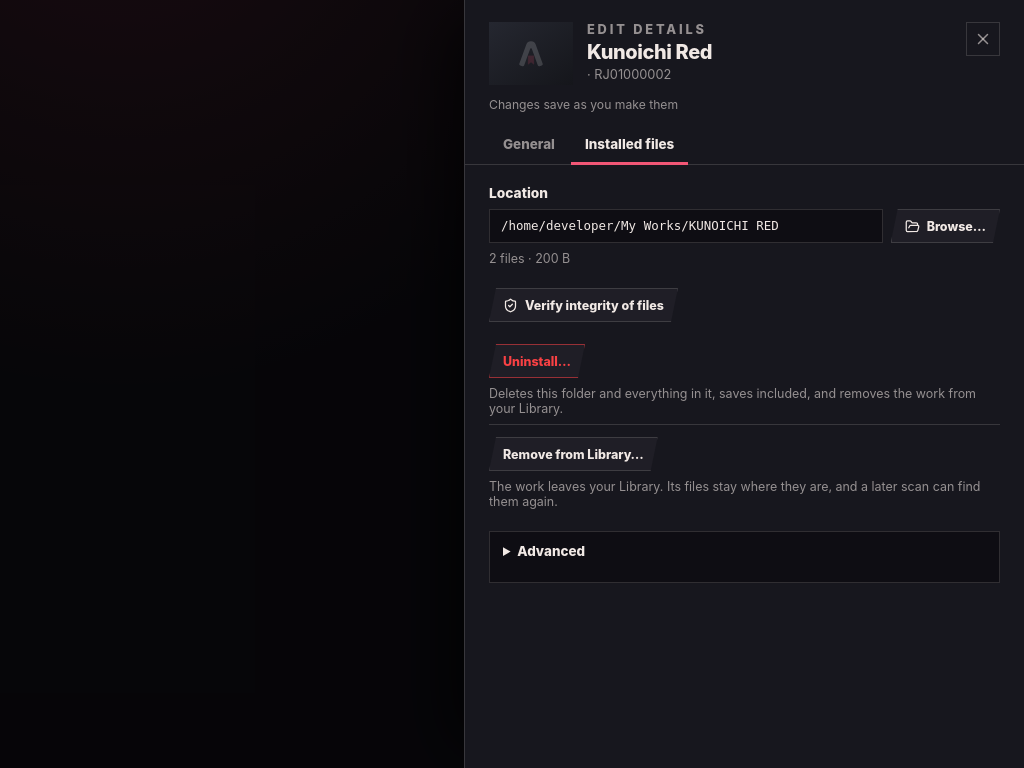
Scenario: LibraryManageDrawer › verifies the files and reports the result in plain words
Click the button "Verify integrity of files": (584, 305) [489, 288, 678, 322]
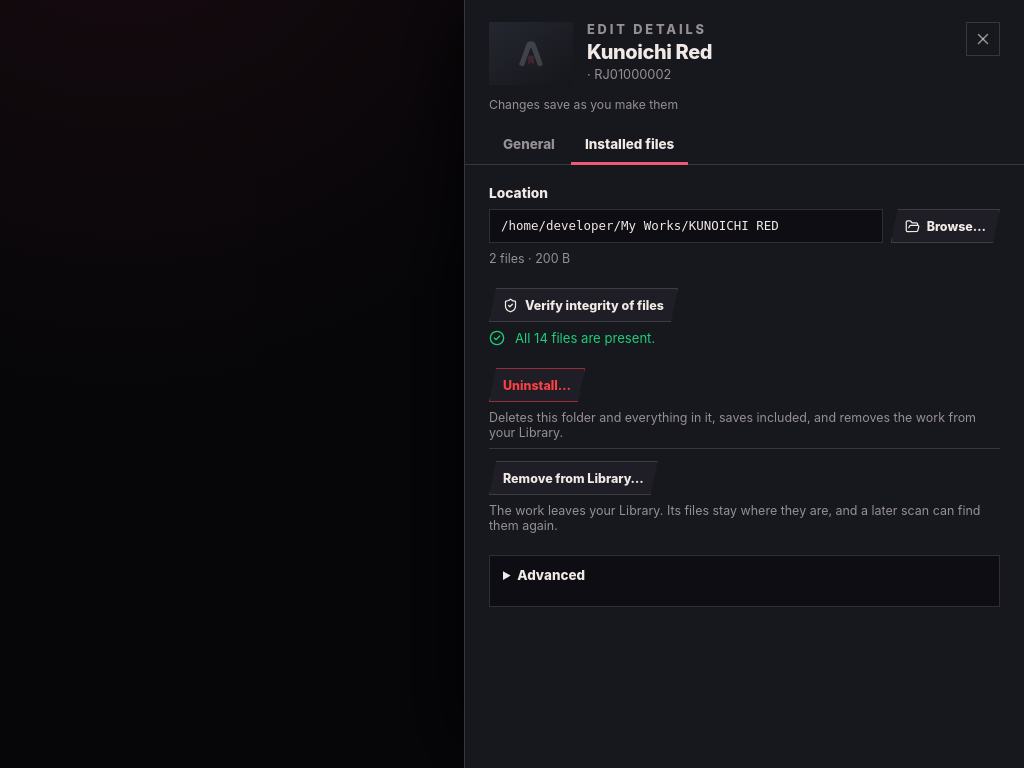
Check: the text "All 14 files are present." is shown, box [489, 330, 655, 346]
